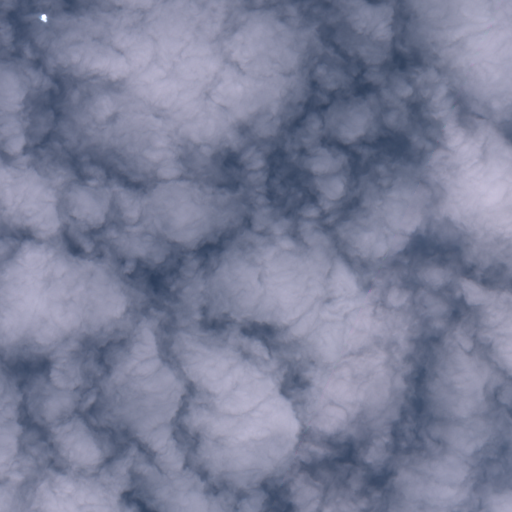Iceberg: (39, 14, 46, 22)
